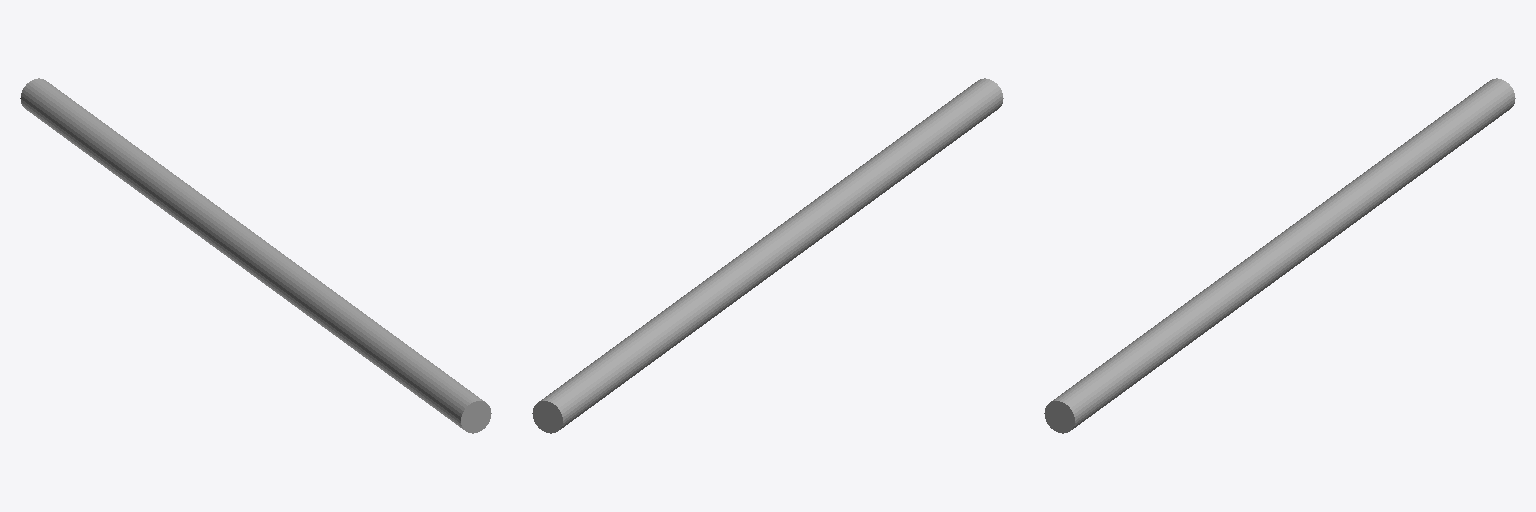
robot.urdf — ur5e_robot:
<?xml version="1.0" encoding="utf-8"?>
<!-- =================================================================================== -->
<!-- |    This document was autogenerated by xacro from ur5e.xacro                     | -->
<!-- |    EDITING THIS FILE BY HAND IS NOT RECOMMENDED                                 | -->
<!-- =================================================================================== -->
<robot name="ur5e_robot">
  <!--
    Base UR robot series xacro macro.

    NOTE: this is NOT a URDF. It cannot directly be loaded by consumers
    expecting a flattened '.urdf' file. See the top-level '.xacro' for that
    (but note: that .xacro must still be processed by the xacro command).

    For use in '.launch' files: use one of the 'load_urX.launch' convenience
    launch files.

    This file models the base kinematic chain of a UR robot, which then gets
    parameterised by various configuration files to convert it into a UR3(e),
    UR5(e), UR10(e) or UR16e.

    NOTE: the default kinematic parameters (ie: link lengths, frame locations,
    offets, etc) do not correspond to any particular robot. They are defaults
    only. There WILL be non-zero offsets between the Forward Kinematics results
    in TF (ie: robot_state_publisher) and the values reported by the Teach
    Pendant.

    For accurate (and robot-specific) transforms, the 'kinematics_parameters_file'
    parameter MUST point to a .yaml file containing the appropriate values for
    the targetted robot.

    If using the UniversalRobots/Universal_Robots_ROS_Driver, follow the steps
    described in the readme of that repository to extract the kinematic
    calibration from the controller and generate the required .yaml file.

    Main author of the migration to yaml configs: [author].

    Contributors to previous versions (in no particular order):

     - [author]
     - [author]
     - [author]
     - [author]
     - [author]
     - [author]
     - [author]
     - [author]
     - [author]
     - [author]
     - [author]
     - [author]
     - [author]
     - [author]
     - [author]
     - [author]
     - [author]
  -->
  <!--
    NOTE: the macro defined in this file is NOT part of the public API of this
          package. Users CANNOT rely on this file being available, or stored in
          this location. Nor can they rely on the existence of the macro.
  -->
  <!-- <transmission name="shoulder_pan_trans">
    <type>transmission_interface/SimpleTransmission</type>
    <joint name="shoulder_pan_joint">
      <hardwareInterface>hardware_interface/PositionJointInterface</hardwareInterface>
    </joint>
    <actuator name="shoulder_pan_motor">
      <mechanicalReduction>1</mechanicalReduction>
    </actuator>
  </transmission>
  <transmission name="shoulder_lift_trans">
    <type>transmission_interface/SimpleTransmission</type>
    <joint name="shoulder_lift_joint">
      <hardwareInterface>hardware_interface/PositionJointInterface</hardwareInterface>
    </joint>
    <actuator name="shoulder_lift_motor">
      <mechanicalReduction>1</mechanicalReduction>
    </actuator>
  </transmission>
  <transmission name="elbow_trans">
    <type>transmission_interface/SimpleTransmission</type>
    <joint name="elbow_joint">
      <hardwareInterface>hardware_interface/PositionJointInterface</hardwareInterface>
    </joint>
    <actuator name="elbow_motor">
      <mechanicalReduction>1</mechanicalReduction>
    </actuator>
  </transmission>
  <transmission name="wrist_1_trans">
    <type>transmission_interface/SimpleTransmission</type>
    <joint name="wrist_1_joint">
      <hardwareInterface>hardware_interface/PositionJointInterface</hardwareInterface>
    </joint>
    <actuator name="wrist_1_motor">
      <mechanicalReduction>1</mechanicalReduction>
    </actuator>
  </transmission>
  <transmission name="wrist_2_trans">
    <type>transmission_interface/SimpleTransmission</type>
    <joint name="wrist_2_joint">
      <hardwareInterface>hardware_interface/PositionJointInterface</hardwareInterface>
    </joint>
    <actuator name="wrist_2_motor">
      <mechanicalReduction>1</mechanicalReduction>
    </actuator>
  </transmission>
  <transmission name="wrist_3_trans">
    <type>transmission_interface/SimpleTransmission</type>
    <joint name="wrist_3_joint">
      <hardwareInterface>hardware_interface/PositionJointInterface</hardwareInterface>
    </joint>
    <actuator name="wrist_3_motor">
      <mechanicalReduction>1</mechanicalReduction>
    </actuator>
  </transmission> -->
  <!-- links: main serial chain -->
  <link name="base_link"/>
  <link name="base_link_inertia">
    <visual>
      <origin rpy="0 0 3.14159265359" xyz="0 0 0"/>
      <geometry>
        <mesh filename="package://ur5e/meshes/ur5e/visual/base.dae"/>
      </geometry>
      <material name="LightGrey">
        <color rgba="0.7 0.7 0.7 1.0"/>
      </material>
    </visual>
    <collision>
      <origin rpy="0 0 3.14159265359" xyz="0 0 0"/>
      <geometry>
        <mesh filename="package://ur5e/meshes/ur5e/collision/base.stl"/>
      </geometry>
    </collision>
    <inertial>
      <mass value="4.0"/>
      <origin rpy="0 0 0" xyz="0 0 0"/>
      <inertia ixx="0.00443333156" ixy="0.0" ixz="0.0" iyy="0.00443333156" iyz="0.0" izz="0.0072"/>
    </inertial>
  </link>
  <link name="shoulder_link">
    <visual>
      <origin rpy="0 0 3.14159265359" xyz="0 0 0"/>
      <geometry>
        <mesh filename="package://ur5e/meshes/ur5e/visual/shoulder.dae"/>
      </geometry>
      <material name="LightGrey">
        <color rgba="0.7 0.7 0.7 1.0"/>
      </material>
    </visual>
    <collision>
      <origin rpy="0 0 3.14159265359" xyz="0 0 0"/>
      <geometry>
        <mesh filename="package://ur5e/meshes/ur5e/collision/shoulder.stl"/>
      </geometry>
    </collision>
    <inertial>
      <mass value="3.7"/>
      <origin rpy="0 0 0" xyz="0 0 0"/>
      <inertia ixx="0.010267495893" ixy="0.0" ixz="0.0" iyy="0.010267495893" iyz="0.0" izz="0.00666"/>
    </inertial>
  </link>
  <link name="upper_arm_link">
    <visual>
      <origin rpy="1.57079632679 0 -1.57079632679" xyz="0 0 0.138"/>
      <geometry>
        <mesh filename="package://ur5e/meshes/ur5e/visual/upperarm.dae"/>
      </geometry>
      <material name="LightGrey">
        <color rgba="0.7 0.7 0.7 1.0"/>
      </material>
    </visual>
    <collision>
      <origin rpy="1.57079632679 0 -1.57079632679" xyz="0 0 0.138"/>
      <geometry>
        <mesh filename="package://ur5e/meshes/ur5e/collision/upperarm.stl"/>
      </geometry>
    </collision>
    <inertial>
      <mass value="8.393"/>
      <origin rpy="0 1.57079632679 0" xyz="-0.2125 0.0 0.138"/>
      <inertia ixx="0.133885781862" ixy="0.0" ixz="0.0" iyy="0.133885781862" iyz="0.0" izz="0.0151074"/>
    </inertial>
  </link>
  <link name="forearm_link">
    <visual>
      <origin rpy="1.57079632679 0 -1.57079632679" xyz="0 0 0.007"/>
      <geometry>
        <mesh filename="package://ur5e/meshes/ur5e/visual/forearm.dae"/>
      </geometry>
      <material name="LightGrey">
        <color rgba="0.7 0.7 0.7 1.0"/>
      </material>
    </visual>
    <collision>
      <origin rpy="1.57079632679 0 -1.57079632679" xyz="0 0 0.007"/>
      <geometry>
        <mesh filename="package://ur5e/meshes/ur5e/collision/forearm.stl"/>
      </geometry>
    </collision>
    <inertial>
      <mass value="2.275"/>
      <origin rpy="0 1.57079632679 0" xyz="-0.1961 0.0 0.007"/>
      <inertia ixx="0.0312093550996" ixy="0.0" ixz="0.0" iyy="0.0312093550996" iyz="0.0" izz="0.004095"/>
    </inertial>
  </link>
  <link name="wrist_1_link">
    <visual>
      <!-- TODO: Move this to a parameter -->
      <origin rpy="1.57079632679 0 0" xyz="0 0 -0.127"/>
      <geometry>
        <mesh filename="package://ur5e/meshes/ur5e/visual/wrist1.dae"/>
      </geometry>
      <material name="LightGrey">
        <color rgba="0.7 0.7 0.7 1.0"/>
      </material>
    </visual>
    <collision>
      <origin rpy="1.57079632679 0 0" xyz="0 0 -0.127"/>
      <geometry>
        <mesh filename="package://ur5e/meshes/ur5e/collision/wrist1.stl"/>
      </geometry>
    </collision>
    <inertial>
      <mass value="1.219"/>
      <origin rpy="0 0 0" xyz="0 0 0"/>
      <inertia ixx="0.00255989897604" ixy="0.0" ixz="0.0" iyy="0.00255989897604" iyz="0.0" izz="0.0021942"/>
    </inertial>
  </link>
  <link name="wrist_2_link">
    <visual>
      <origin rpy="0 0 0" xyz="0 0 -0.0997"/>
      <geometry>
        <mesh filename="package://ur5e/meshes/ur5e/visual/wrist2.dae"/>
      </geometry>
      <material name="LightGrey">
        <color rgba="0.7 0.7 0.7 1.0"/>
      </material>
    </visual>
    <collision>
      <origin rpy="0 0 0" xyz="0 0 -0.0997"/>
      <geometry>
        <mesh filename="package://ur5e/meshes/ur5e/collision/wrist2.stl"/>
      </geometry>
    </collision>
    <inertial>
      <mass value="1.219"/>
      <origin rpy="0 0 0" xyz="0 0 0"/>
      <inertia ixx="0.00255989897604" ixy="0.0" ixz="0.0" iyy="0.00255989897604" iyz="0.0" izz="0.0021942"/>
    </inertial>
  </link>
  <link name="wrist_3_link">
    <visual>
      <origin rpy="1.57079632679 0 0" xyz="0 0 -0.0989"/>
      <geometry>
        <mesh filename="package://ur5e/meshes/ur5e/visual/wrist3.dae"/>
      </geometry>
      <material name="LightGrey">
        <color rgba="0.7 0.7 0.7 1.0"/>
      </material>
    </visual>
    <collision>
      <origin rpy="1.57079632679 0 0" xyz="0 0 -0.0989"/>
      <geometry>
        <mesh filename="package://ur5e/meshes/ur5e/collision/wrist3.stl"/>
      </geometry>
    </collision>
    <inertial>
      <mass value="0.1879"/>
      <origin rpy="0 0 0" xyz="0.0 0.0 -0.0229"/>
      <inertia ixx="9.89041005217e-05" ixy="0.0" ixz="0.0" iyy="9.89041005217e-05" iyz="0.0" izz="0.0001321171875"/>
    </inertial>
  </link>

  <!-- End-effector stick -->
  <link name="stick">
    <visual>
      <origin rpy="0 3.14159265359 1.57079632679" xyz="0 -0.5 0"/>
      <geometry>
        <mesh filename="package://ur5e/meshes/stick.dae"/>
      </geometry>
      <material name="LightGrey">
        <color rgba="0.7 0.7 0.7 1.0"/>
      </material>
    </visual>
    <collision>
      <origin rpy="0 3.14159265359 1.57079632679" xyz="0 -0.5 0"/>
      <geometry>
        <mesh filename="package://ur5e/meshes/stick.dae"/>
      </geometry>
    </collision>
    <inertial>
      <mass value="0.1"/>
      <origin rpy="0 0 0" xyz="-0.25 0.0 0.0"/>
      <inertia ixx="0.0" ixy="0.0" ixz="0.0" iyy="0.000003" iyz="0.0" izz="0.000003"/>
    </inertial>
  </link>

  <!-- <link name="stick_tip">
  </link> -->


  <!-- joints: main serial chain -->
  <joint name="base_link-base_link_inertia" type="fixed">
    <parent link="base_link"/>
    <child link="base_link_inertia"/>
    <!-- 'base_link' is REP-103 aligned (so X+ forward), while the internal
           frames of the robot/controller have X+ pointing backwards.
           Use the joint between 'base_link' and 'base_link_inertia' (a dummy
           link/frame) to introduce the necessary rotation over Z (of pi rad).
      -->
    <origin rpy="0 0 3.14159265359" xyz="0 0 0"/>
  </joint>
  <!-- all limits 6.28318530718 are changed to 6.25 -->
  <joint name="shoulder_pan_joint" type="revolute">
    <parent link="base_link_inertia"/>
    <child link="shoulder_link"/>
    <origin rpy="0 0 0" xyz="0 0 0.1625"/>
    <axis xyz="0 0 1"/>
    <limit effort="150.0" lower="-6.25" upper="6.25" velocity="3.14159265359"/>
    <dynamics damping="0" friction="0"/>
  </joint>
  <joint name="shoulder_lift_joint" type="revolute">
    <parent link="shoulder_link"/>
    <child link="upper_arm_link"/>
    <origin rpy="1.570796327 0 0" xyz="0 0 0"/>
    <axis xyz="0 0 1"/>
    <limit effort="150.0" lower="-6.25" upper="6.25" velocity="3.14159265359"/>
    <dynamics damping="0" friction="0"/>
  </joint>
  <joint name="elbow_joint" type="revolute">
    <parent link="upper_arm_link"/>
    <child link="forearm_link"/>
    <origin rpy="0 0 0" xyz="-0.425 0 0"/>
    <axis xyz="0 0 1"/>
    <limit effort="150.0" lower="-3.14159265359" upper="3.14159265359" velocity="3.14159265359"/>
    <dynamics damping="0" friction="0"/>
  </joint>
  <joint name="wrist_1_joint" type="revolute">
    <parent link="forearm_link"/>
    <child link="wrist_1_link"/>
    <origin rpy="0 0 0" xyz="-0.3922 0 0.1333"/>
    <axis xyz="0 0 1"/>
    <limit effort="28.0" lower="-6.25" upper="6.25" velocity="3.14159265359"/>
    <dynamics damping="0" friction="0"/>
  </joint>
  <joint name="wrist_2_joint" type="revolute">
    <parent link="wrist_1_link"/>
    <child link="wrist_2_link"/>
    <origin rpy="1.570796327 0 0" xyz="0 -0.0997 -2.0448811823e-11"/>
    <axis xyz="0 0 1"/>
    <limit effort="28.0" lower="-6.25" upper="6.25" velocity="3.14159265359"/>
    <dynamics damping="0" friction="0"/>
  </joint>
  <joint name="wrist_3_joint" type="revolute">
    <parent link="wrist_2_link"/>
    <child link="wrist_3_link"/>
    <origin rpy="1.57079632659 3.14159265359 3.14159265359" xyz="0 0.0996 -2.04283014801e-11"/>
    <axis xyz="0 0 1"/>
    <limit effort="28.0" lower="-6.25" upper="6.25" velocity="3.14159265359"/>
    <dynamics damping="0" friction="0"/>
  </joint>
  <!-- ROS-Industrial 'base' frame: base_link to UR 'Base' Coordinates transform -->
  <link name="base"/>
  <joint name="base_link-base_fixed_joint" type="fixed">
    <!-- Note the rotation over Z of pi radians: as base_link is REP-103
           aligned (ie: has X+ forward, Y+ left and Z+ up), this is needed
           to correctly align 'base' with the 'Base' coordinate system of
           the UR controller.
      -->
    <origin rpy="0 0 3.14159265359" xyz="0 0 0"/>
    <parent link="base_link"/>
    <child link="base"/>
  </joint>
  <!-- ROS-Industrial 'flange' frame: attachment point for EEF models -->
  <link name="flange"/>
  <joint name="wrist_3-flange" type="fixed">
    <parent link="wrist_3_link"/>
    <child link="flange"/>
    <origin rpy="0 -1.57079632679 -1.57079632679" xyz="0 0 0"/>
  </joint>
  <!-- ROS-Industrial 'tool0' frame: all-zeros tool frame -->
  <link name="tool0"/>
  <joint name="flange-tool0" type="fixed">
    <!-- default toolframe: X+ left, Y+ up, Z+ front -->
    <origin rpy="1.57079632679 0 1.57079632679" xyz="0 0 0"/>
    <parent link="flange"/>
    <child link="tool0"/>
  </joint>

  <!-- End-effector stick -->
  <joint name="flange-stick" type="fixed">
    <parent link="flange"/>
    <child link="stick"/>
    <origin rpy="0 -1.57079632679 -1.57079632679" xyz="0.5 0 0"/>
  </joint>

  <!-- End-effector stick tip -->
  <!-- <joint name="stick-tip" type="fixed">
    <parent link="stick"/>
    <child link="stick_tip"/>
    <origin rpy="0 0 0" xyz="0 0.25 0"/>
  </joint> -->

</robot>

--- What the picture shows (computed from the rendered views, not written in the file) ---
The picture shows the robot from 3 angles, left to right: view 1: azimuth 30°, elevation 25°; view 2: azimuth 150°, elevation 25°; view 3: azimuth 330°, elevation 25°; orthographic projection.
Model ur5e_robot with 12 links and 11 joints (6 revolute, 5 fixed), rooted at base_link, posed every joint at zero.
Links seen in each view (by area): view 1: stick; view 2: stick; view 3: stick.
Link boxes in pixels (x1,y1,x2,y2): stick: (20,78,491,433); stick: (532,78,1003,433); stick: (1044,78,1515,433).
Size in the robot's own frame: 0.02 by 0.5 by 0.02 metres.
Meshes: 8 distinct files referenced, 1 mesh visuals loaded (1 Collada DAE); not drawn: 7 (reference not matched to a file when rendering).